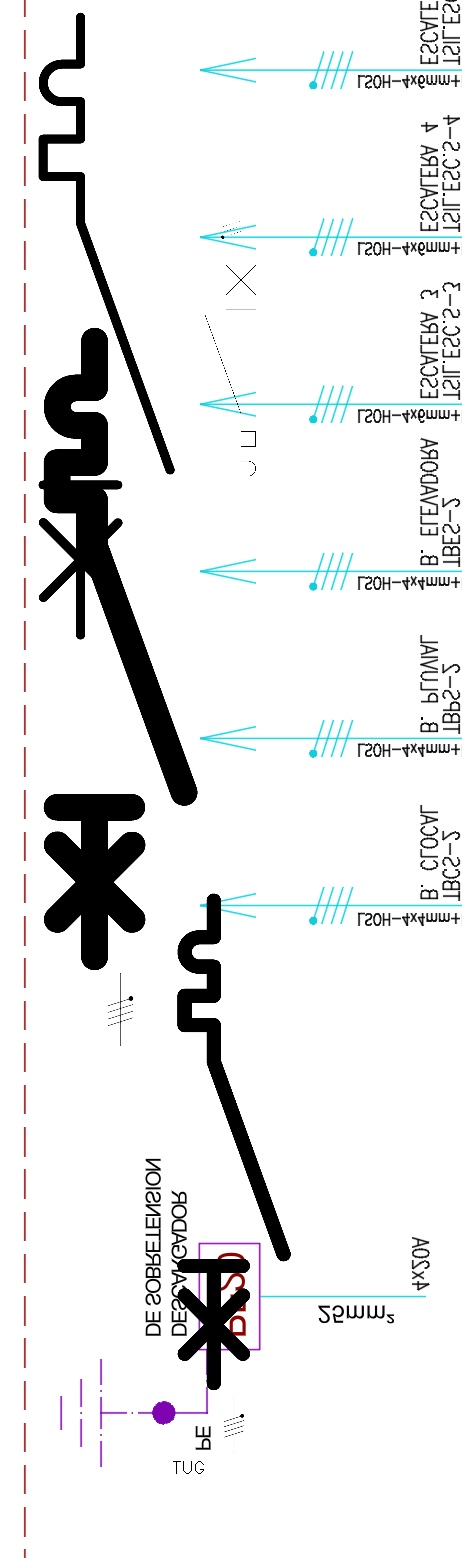interruptor_termomagnetico: (27, 1, 186, 650), (41, 325, 199, 973), (172, 888, 296, 1395), (199, 244, 262, 501)
